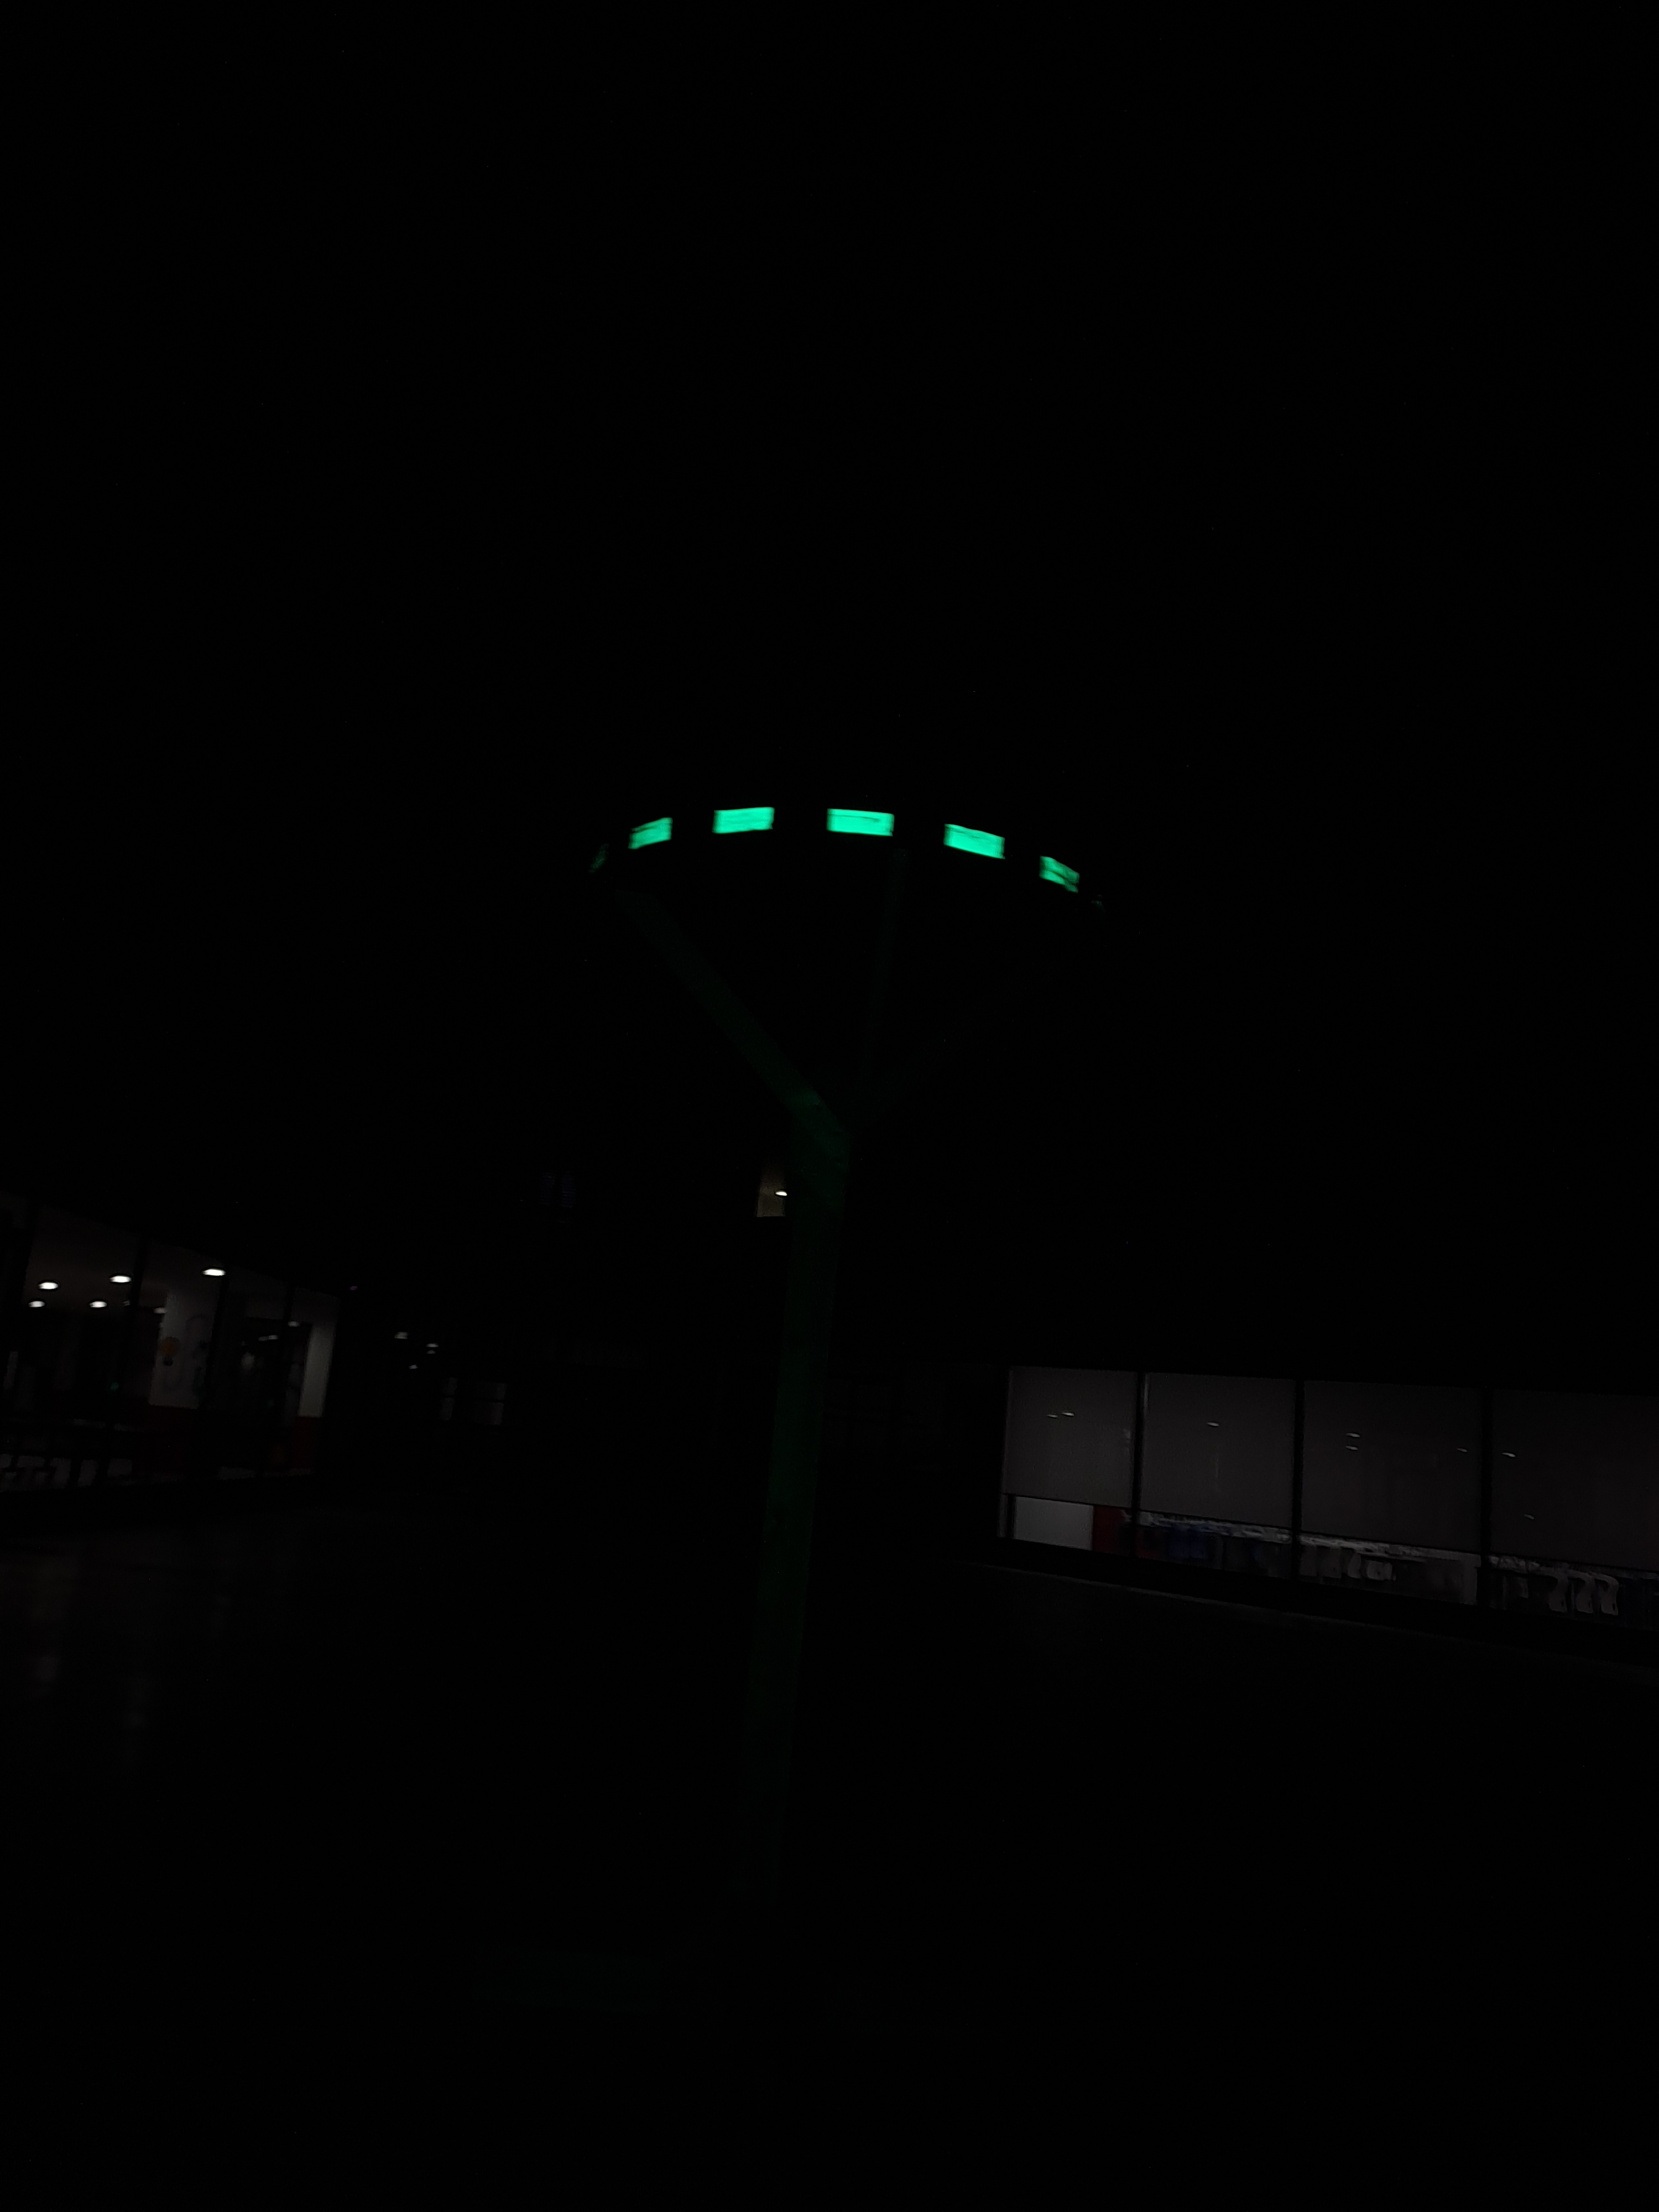hoop: (626, 791, 1080, 902)
